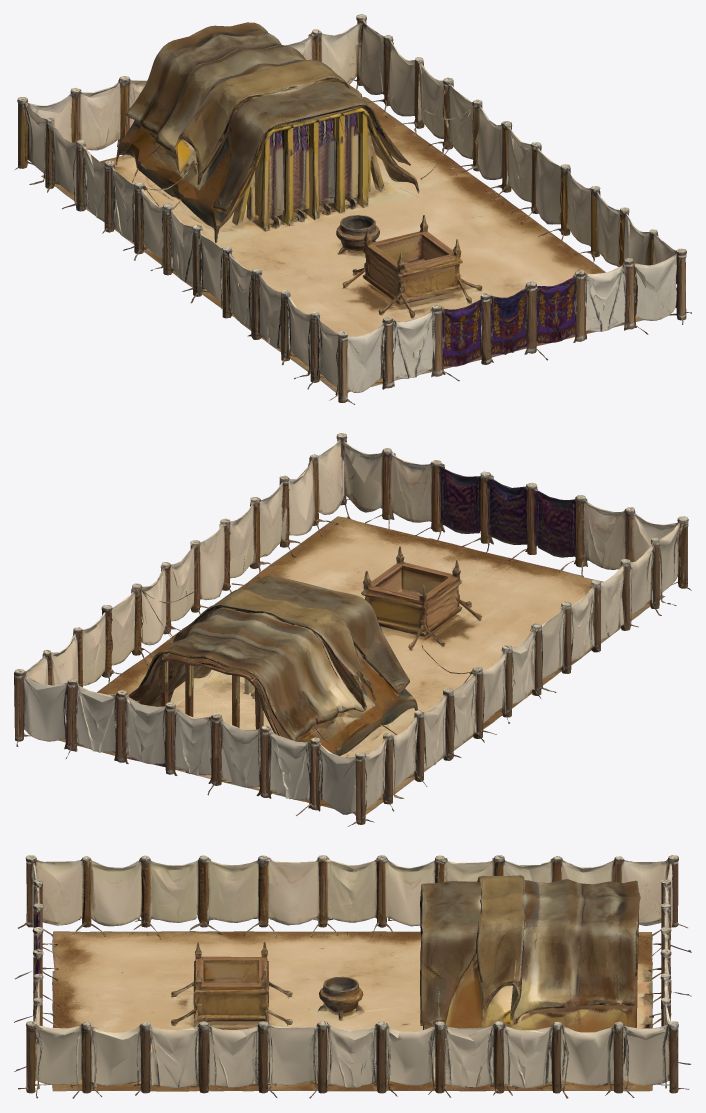
The model's file is tabernacle.glb.
3 views of the same model, one above another, from view 1: azimuth 30°, elevation 25°; view 2: azimuth 150°, elevation 25°; view 3: azimuth 270°, elevation 25° (orthographic).
Bounding box in the file's own units: 1.19 × 0.3637 × 1.9.
1 material, 1 textured.
